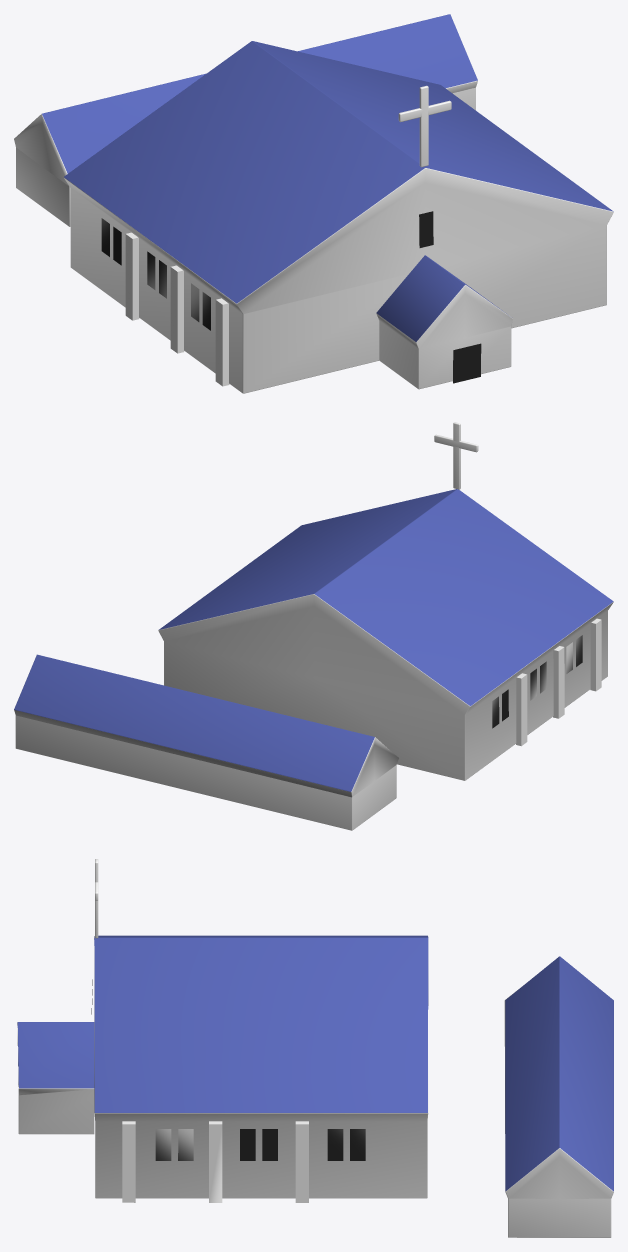
File: Church2.fbx
The picture shows the model from 3 angles, top to bottom: view 1: azimuth 30°, elevation 25°; view 2: azimuth 150°, elevation 25°; view 3: azimuth 270°, elevation 25°; orthographic projection. The views are drawn at different scales.
Visible parts, largest first — view 1: CL_Merged_cube_NewUVs1_4_CL_Merged_cube_NewUVs1_40_0; view 2: CL_Merged_cube_NewUVs1_4_CL_Merged_cube_NewUVs1_40_0; view 3: CL_Merged_cube_NewUVs1_4_CL_Merged_cube_NewUVs1_40_0.
Part boxes in pixels (x1=…): CL_Merged_cube_NewUVs1_4_CL_Merged_cube_NewUVs1_40_0: x1=14, y1=14, x2=613, y2=393; CL_Merged_cube_NewUVs1_4_CL_Merged_cube_NewUVs1_40_0: x1=14, y1=422, x2=613, y2=830; CL_Merged_cube_NewUVs1_4_CL_Merged_cube_NewUVs1_40_0: x1=17, y1=859, x2=613, y2=1237.
Size of the model in its own units: 529 by 292 by 627.
1 material, 1 textured.
